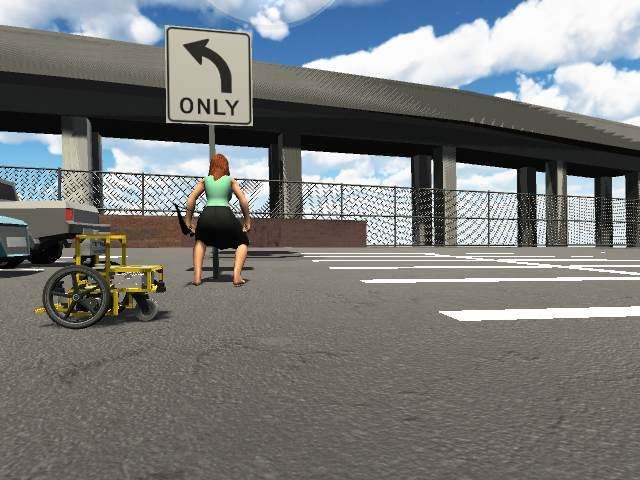arrow_left: (182, 36, 235, 92)
